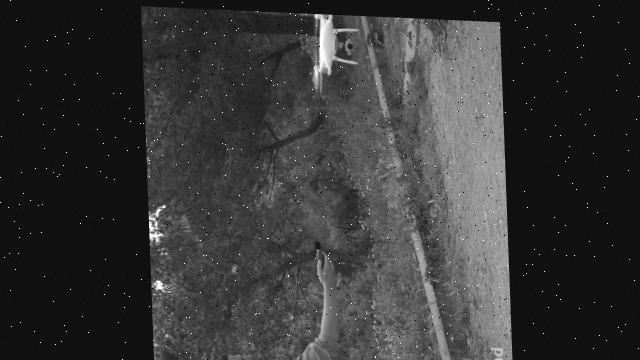drone: (305, 11, 358, 95)
